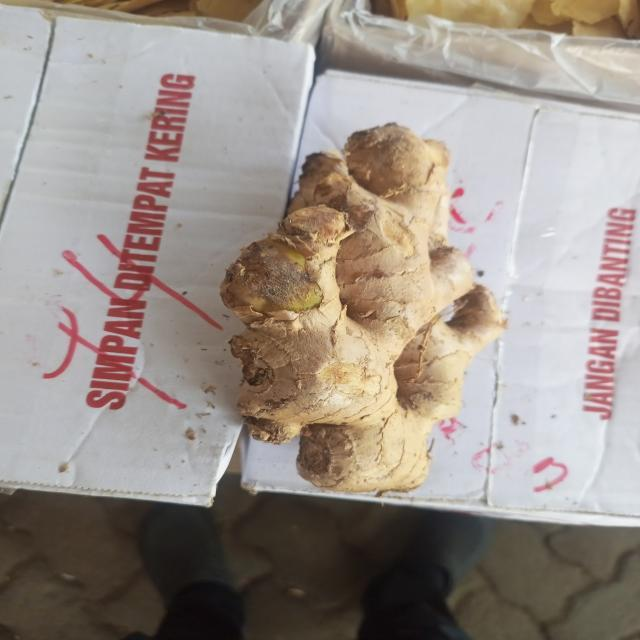ginger: (228, 127, 489, 491)
